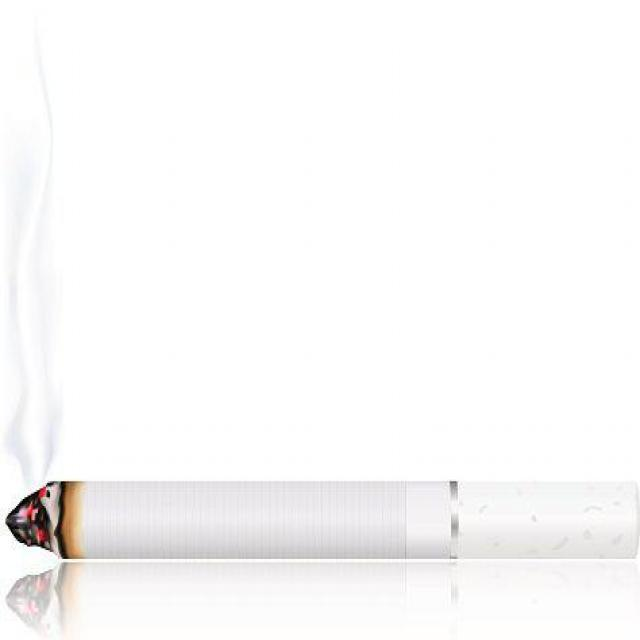cigarette: (2, 474, 630, 560)
